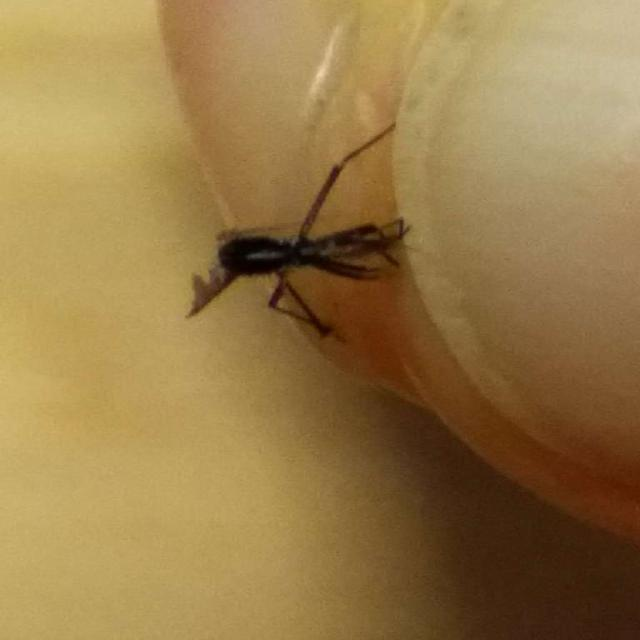albopictus: (181, 108, 424, 334)
